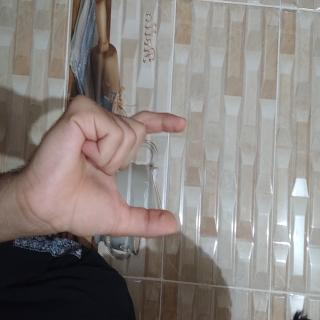NOON: (69, 172, 183, 320)
